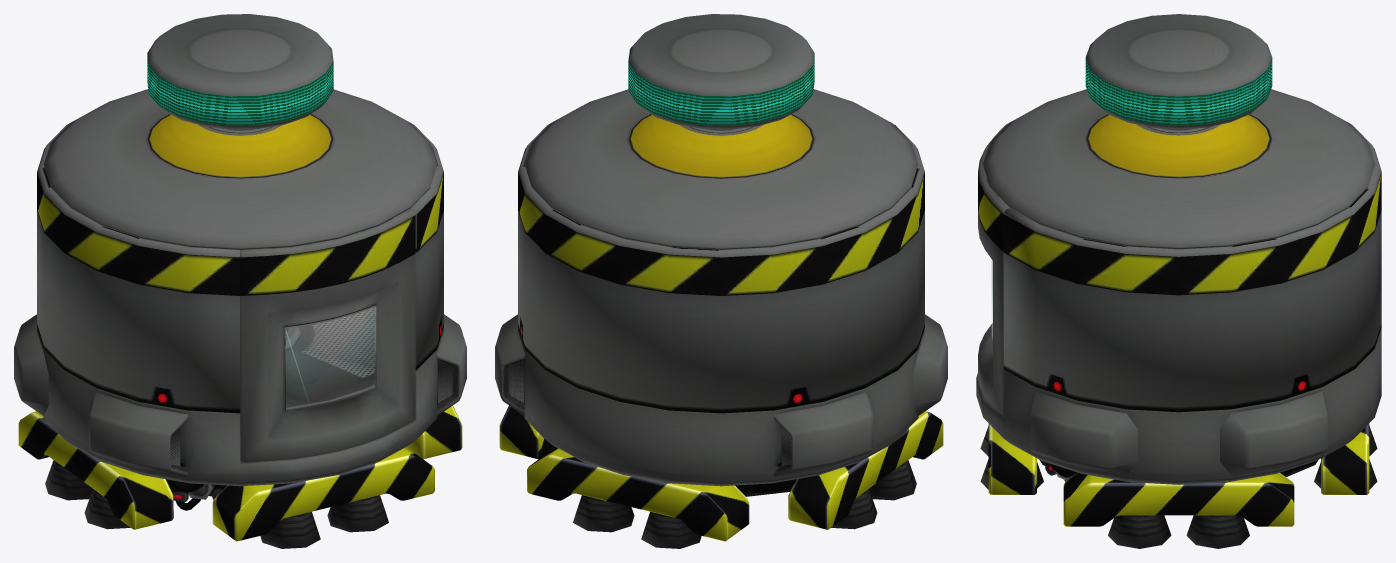
Rendered from Animal-Capsule.glb.
The picture shows the model from 3 angles, left to right: view 1: azimuth 30°, elevation 25°; view 2: azimuth 150°, elevation 25°; view 3: azimuth 270°, elevation 25°; orthographic projection.
Parts seen in each view (by area): view 1: stu_obj_animalcapsule; view 2: stu_obj_animalcapsule; view 3: stu_obj_animalcapsule.
Boxes of the visible parts, x1,y1,x2,y2 form: stu_obj_animalcapsule: [14, 14, 466, 548]; stu_obj_animalcapsule: [495, 14, 947, 548]; stu_obj_animalcapsule: [976, 14, 1381, 548].
Size of the model in its own units: 0.9469 by 1.02 by 0.9022.
4 materials, 4 textured.
